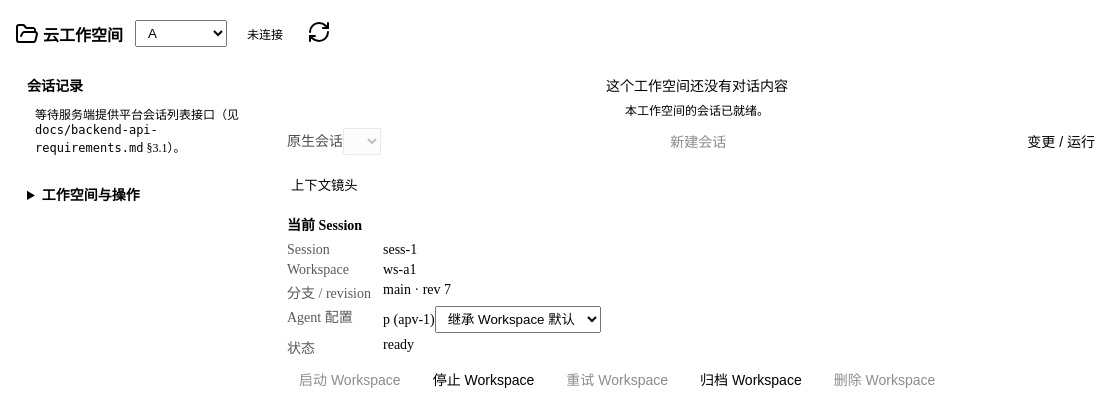
R2-03 transition-period requests and side effects › stops reading a workspace once a refresh removes it from the list
Click the button named "refresh-workspaces" at (319, 34), box [303,16,335,51]
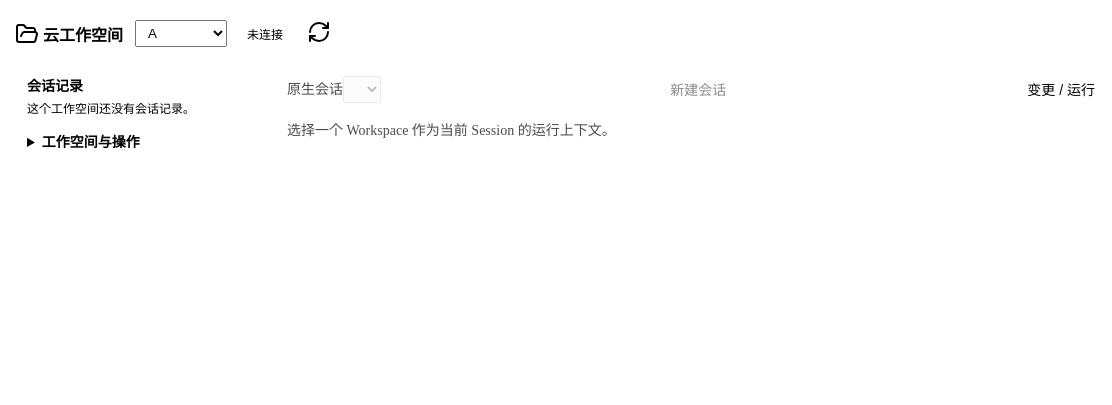
Now the text "ws-a1" is gone
Now the text "选择一个 Workspace 作为当前 Session 的运行上下文。" is shown, box [287,123,616,138]
